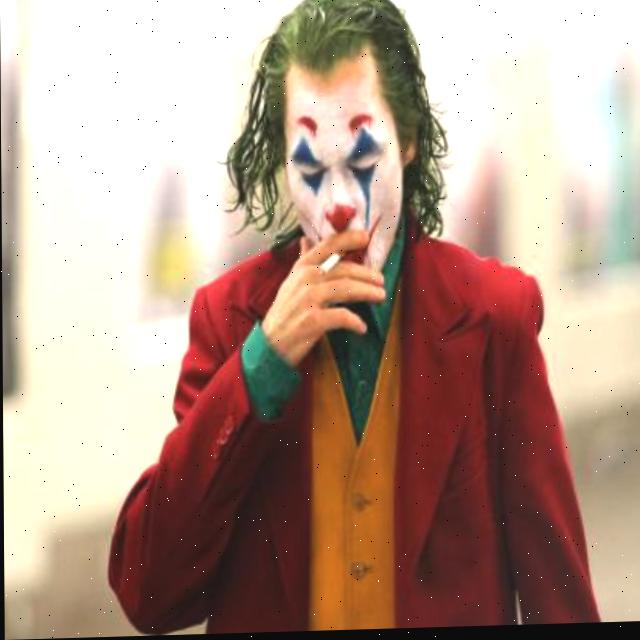cigarette: (317, 249, 350, 280)
